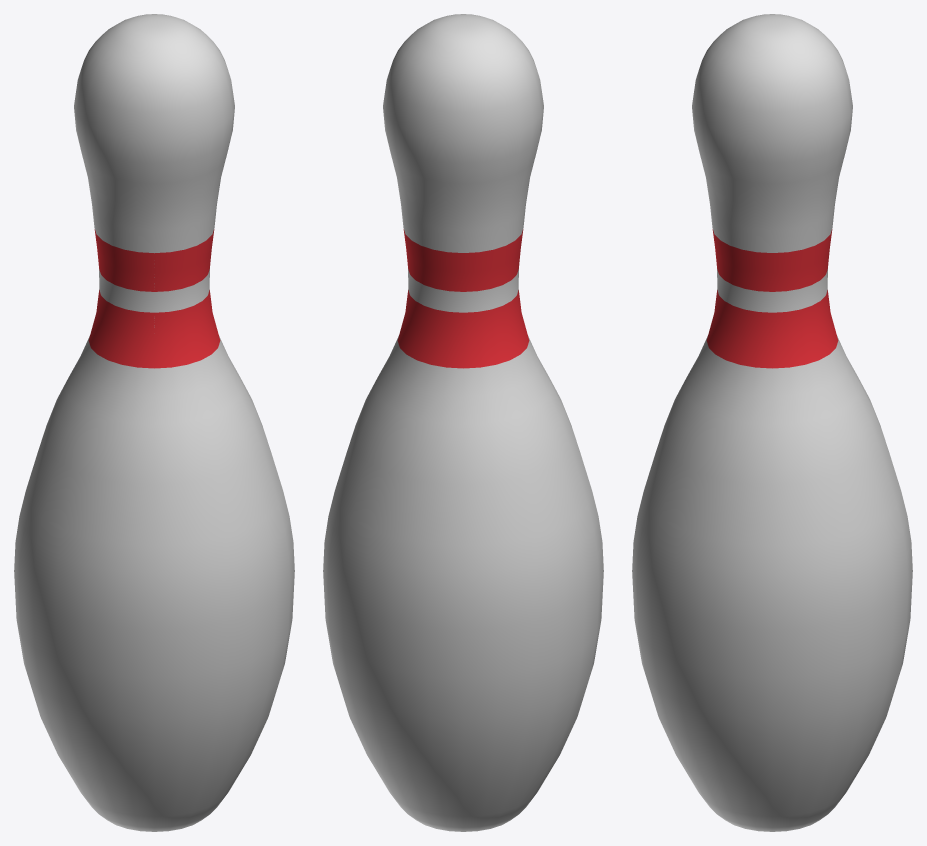
The model's file is bowlingPin.glb.
3 views of the same model, side by side, from view 1: azimuth 30°, elevation 25°; view 2: azimuth 150°, elevation 25°; view 3: azimuth 270°, elevation 25° (orthographic).
Visible parts, largest first — view 1: Bowling Pin; view 2: Bowling Pin; view 3: Bowling Pin.
Boxes of the visible parts, box(x1,y1,x2,y2) form: Bowling Pin: box(14, 14, 294, 831); Bowling Pin: box(323, 14, 603, 831); Bowling Pin: box(632, 14, 912, 831).
Bounding box in the file's own units: 12.32 × 38.26 × 12.32.
